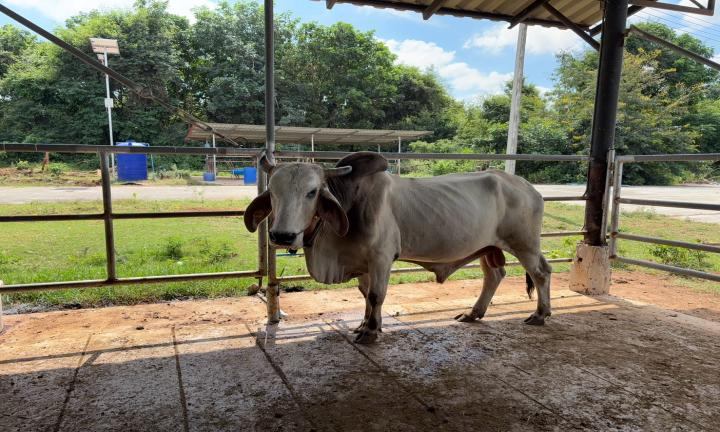Brahman: (244, 152, 551, 343)
